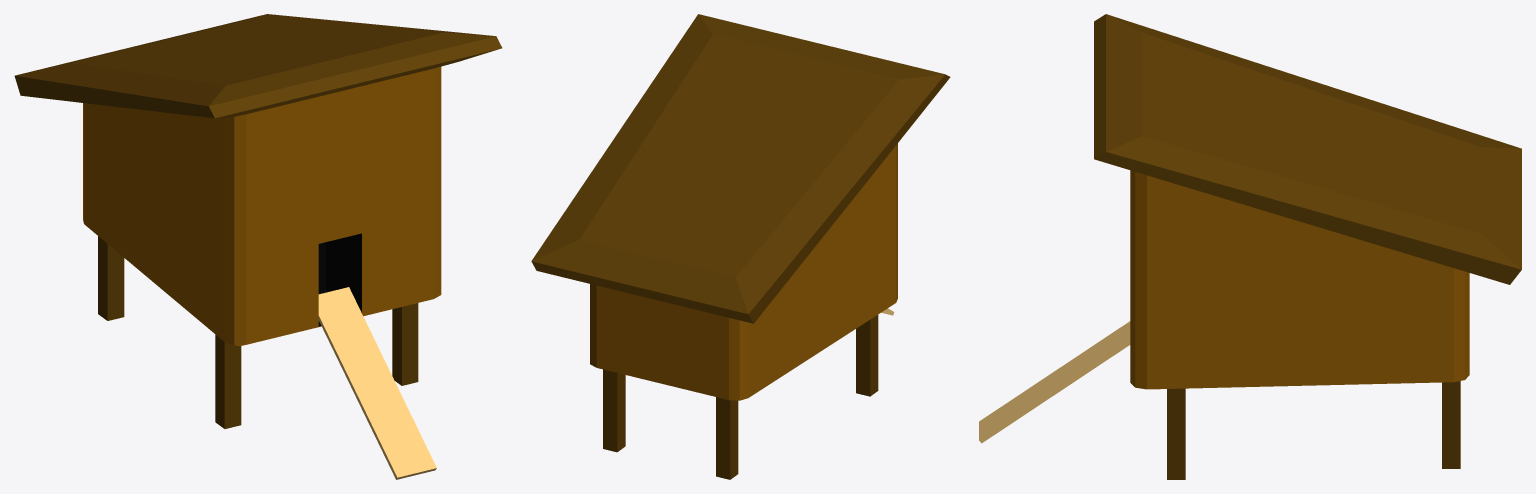
Rendered from Coop.fbx.
3 renders of one model, left to right at view 1: azimuth 30°, elevation 25°; view 2: azimuth 150°, elevation 25°; view 3: azimuth 270°, elevation 25°, orthographic. The views are drawn at different scales.
Visible parts, largest first — view 1: pCube8; view 2: pCube8; view 3: pCube8.
Boxes of the visible parts, left/top/right/bottom form: pCube8: left=14, top=14, right=502, bottom=479; pCube8: left=531, top=14, right=950, bottom=479; pCube8: left=979, top=14, right=1521, bottom=479.
Bounding box in the file's own units: 2.21 × 2.63 × 3.68.
